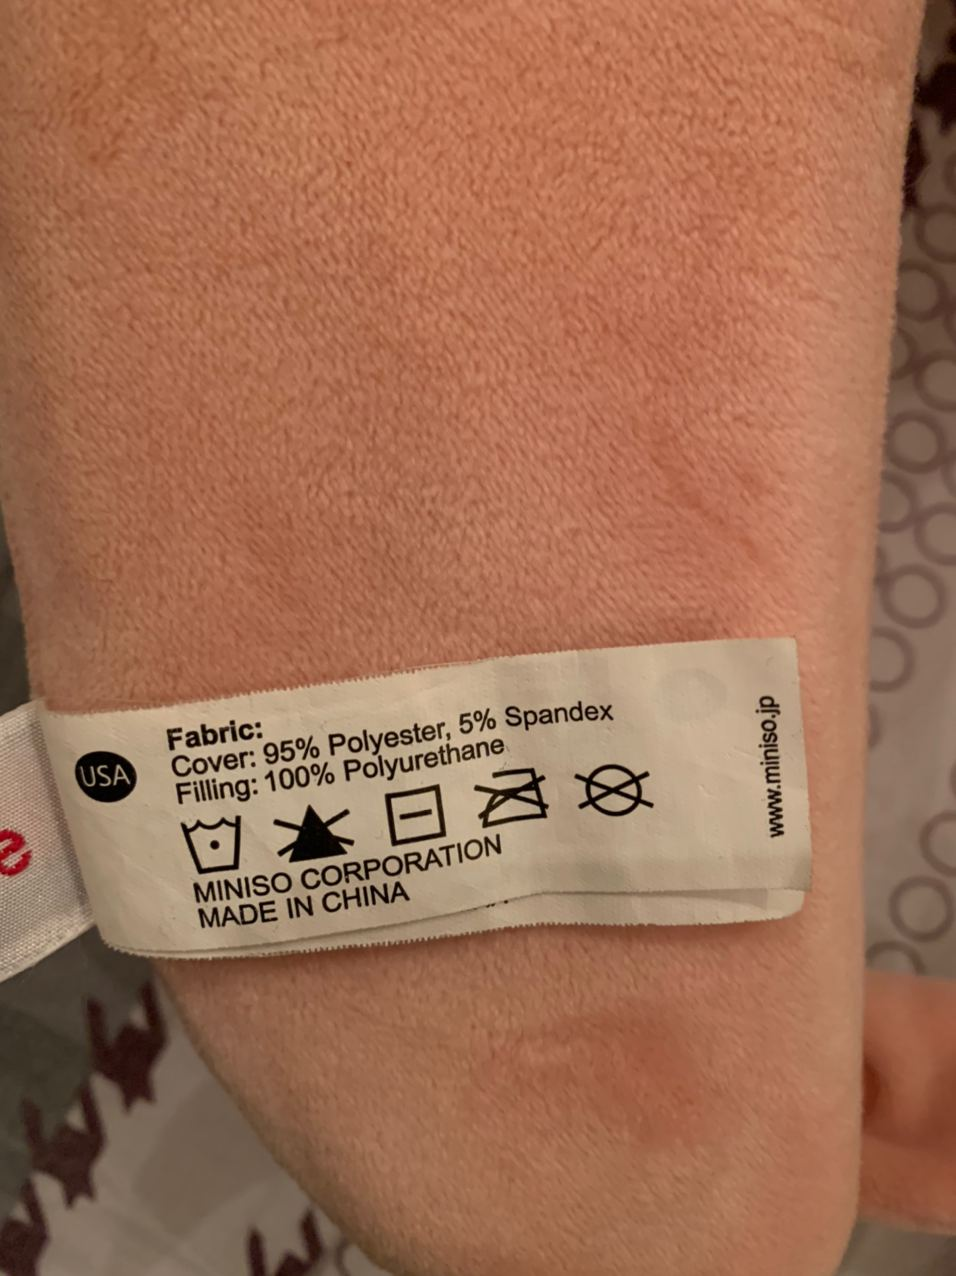do_not_bleach: (268, 794, 361, 868)
do_not_dry_clean: (571, 761, 660, 819)
do_not_iron: (469, 759, 553, 830)
dry_flat: (381, 778, 452, 853)
wash_at_or_below_30: (178, 803, 250, 879)
